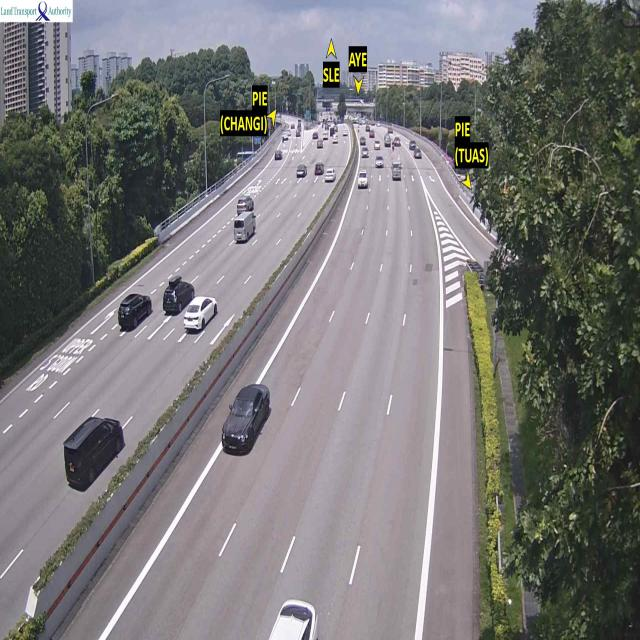vehicles: (63, 415, 124, 484), (222, 380, 272, 450), (116, 292, 154, 335), (163, 274, 194, 309), (232, 208, 256, 244), (296, 163, 311, 183), (389, 163, 403, 182), (360, 169, 370, 189), (324, 168, 336, 182)
